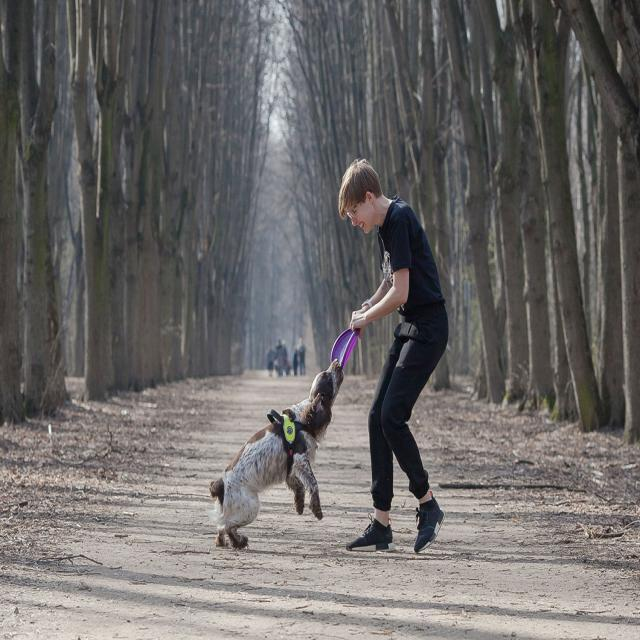Dogs: (210, 357, 353, 556)
